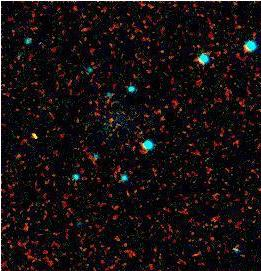star: (19, 119, 49, 149)
